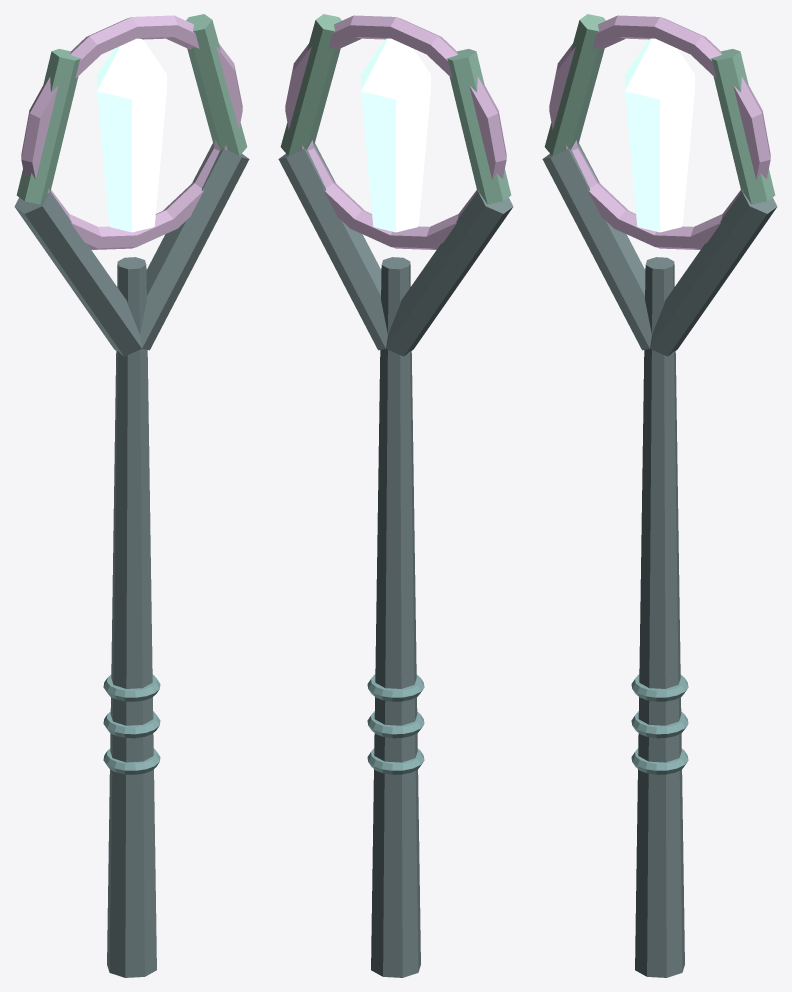
The model's file is runestone-conservatory-seedkeeper-crystal-staff__118.glb.
3 renders of one model, left to right at view 1: azimuth 30°, elevation 25°; view 2: azimuth 150°, elevation 25°; view 3: azimuth 330°, elevation 25°, orthographic.
Visible parts, largest first — view 1: runestone-conservatory-seedkeeper-staff; view 2: runestone-conservatory-seedkeeper-staff; view 3: runestone-conservatory-seedkeeper-staff.
Boxes of the visible parts, <box> form: runestone-conservatory-seedkeeper-staff: <box>14,14,249,977</box>; runestone-conservatory-seedkeeper-staff: <box>278,14,513,977</box>; runestone-conservatory-seedkeeper-staff: <box>542,14,777,977</box>.
Bounding box in the file's own units: 0.4514 × 1.82 × 0.1212.
